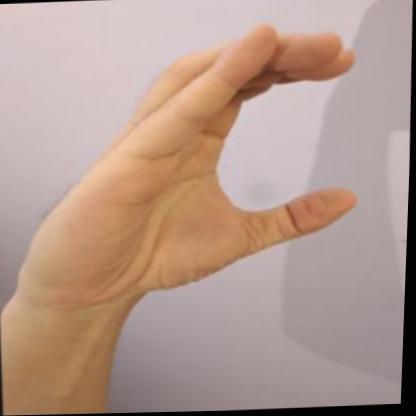C: (0, 16, 375, 315)
